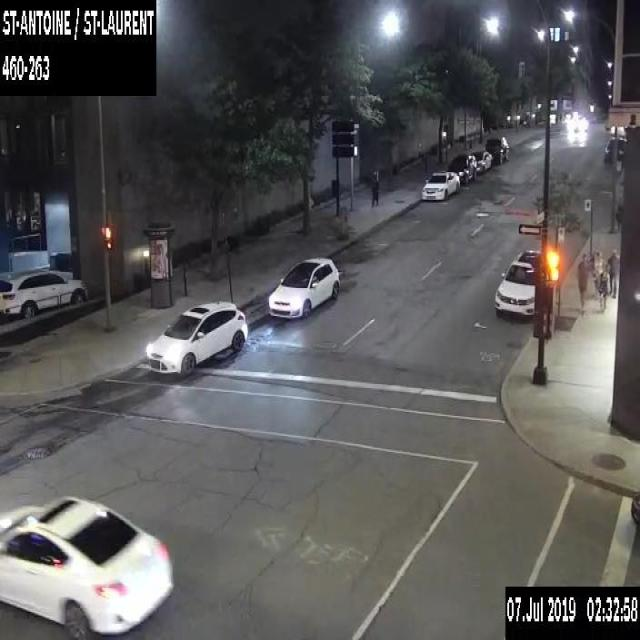pedestrian: (576, 252, 588, 317), (607, 247, 619, 297), (590, 248, 603, 287), (597, 270, 607, 309), (370, 169, 379, 207)
vehicle: (0, 494, 175, 638), (146, 299, 247, 376), (267, 255, 341, 319), (0, 266, 86, 320), (493, 248, 541, 320), (420, 169, 460, 201), (446, 153, 476, 184), (602, 134, 627, 166), (484, 134, 509, 162), (469, 149, 494, 172), (630, 495, 639, 525), (572, 115, 588, 131)
